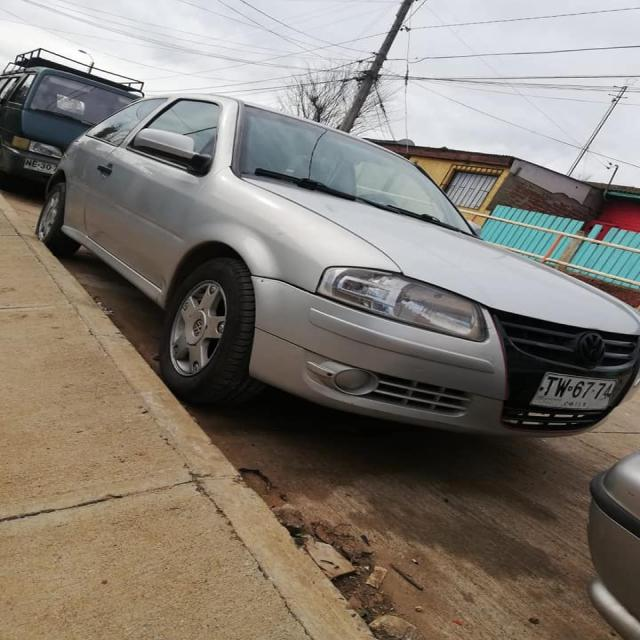patente: (528, 371, 619, 412)
